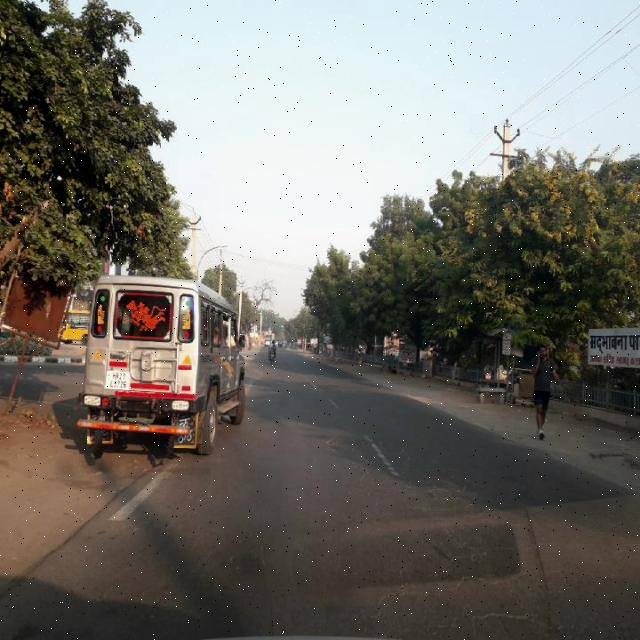D20: (408, 466, 529, 634)
D44: (360, 425, 397, 477)
